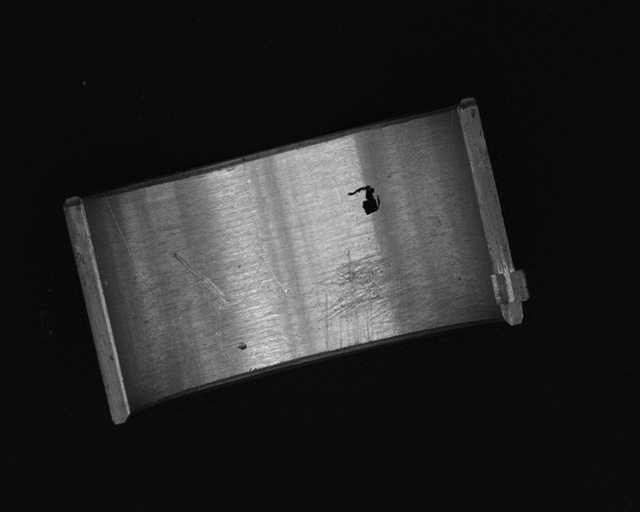blot: (347, 185, 381, 215)
bruise: (235, 341, 247, 352)
nick: (240, 160, 289, 293), (103, 194, 155, 294), (172, 252, 231, 305), (215, 300, 229, 362)
scratch: (312, 251, 448, 352)
